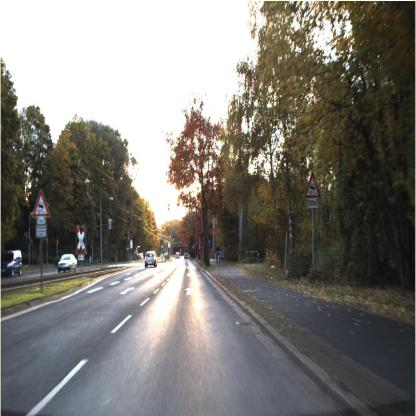danger: (29, 186, 51, 220), (303, 168, 321, 204)
